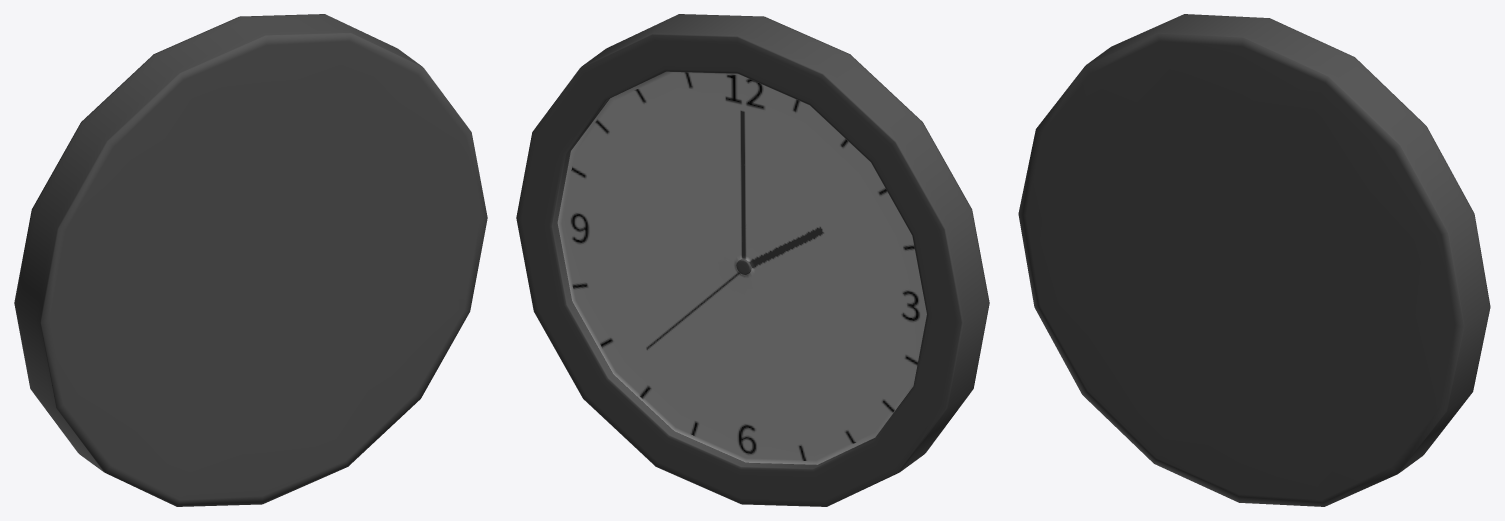
Rendered from Clock.fbx.
3 renders of one model, left to right at view 1: azimuth 30°, elevation 25°; view 2: azimuth 150°, elevation 25°; view 3: azimuth 330°, elevation 25°, orthographic.
Visible parts, largest first — view 1: Cylinder.145; view 2: Cylinder.145; view 3: Cylinder.145.
Part boxes in pixels (bbox=[...]): Cylinder.145: bbox=[14, 14, 487, 506]; Cylinder.145: bbox=[516, 14, 989, 506]; Cylinder.145: bbox=[1018, 14, 1490, 506].
Bounding box in the file's own units: 54.08 × 54.08 × 5.77.
Materials: 1 (1 with a texture image).
